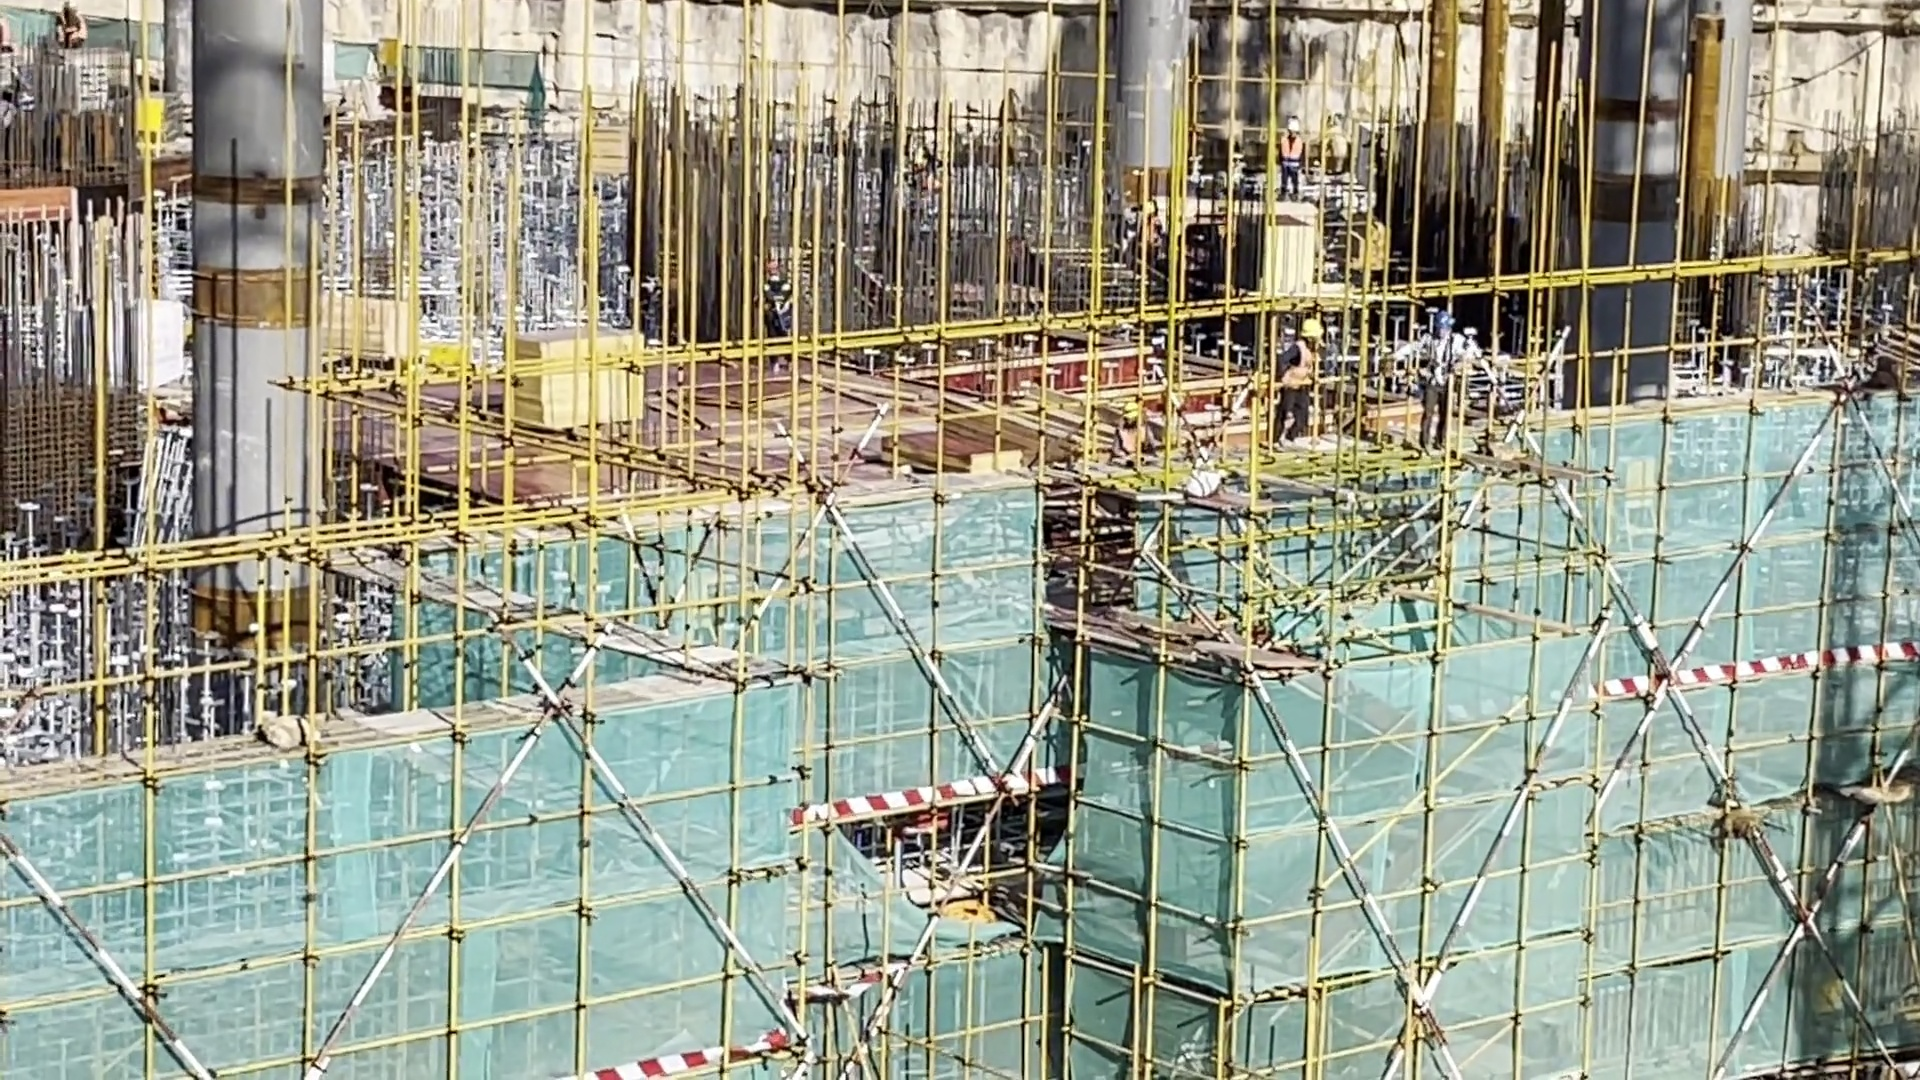helmet: (1301, 315, 1327, 337), (610, 262, 630, 283), (1432, 312, 1451, 333), (1119, 408, 1139, 423), (1287, 114, 1301, 133), (774, 267, 784, 287), (68, 1, 85, 12), (1155, 205, 1159, 222)
person: (1269, 317, 1320, 458), (1411, 310, 1456, 449), (607, 258, 663, 351), (764, 260, 801, 383), (1108, 405, 1166, 469), (1269, 110, 1304, 199), (1138, 202, 1165, 269), (61, 1, 87, 44), (1, 8, 15, 52)
vest: (1416, 337, 1446, 391), (1279, 346, 1311, 396), (624, 269, 656, 314), (761, 289, 788, 331), (1118, 428, 1153, 456), (1281, 138, 1306, 166), (58, 17, 88, 39), (1143, 217, 1161, 249), (1, 25, 9, 47)
